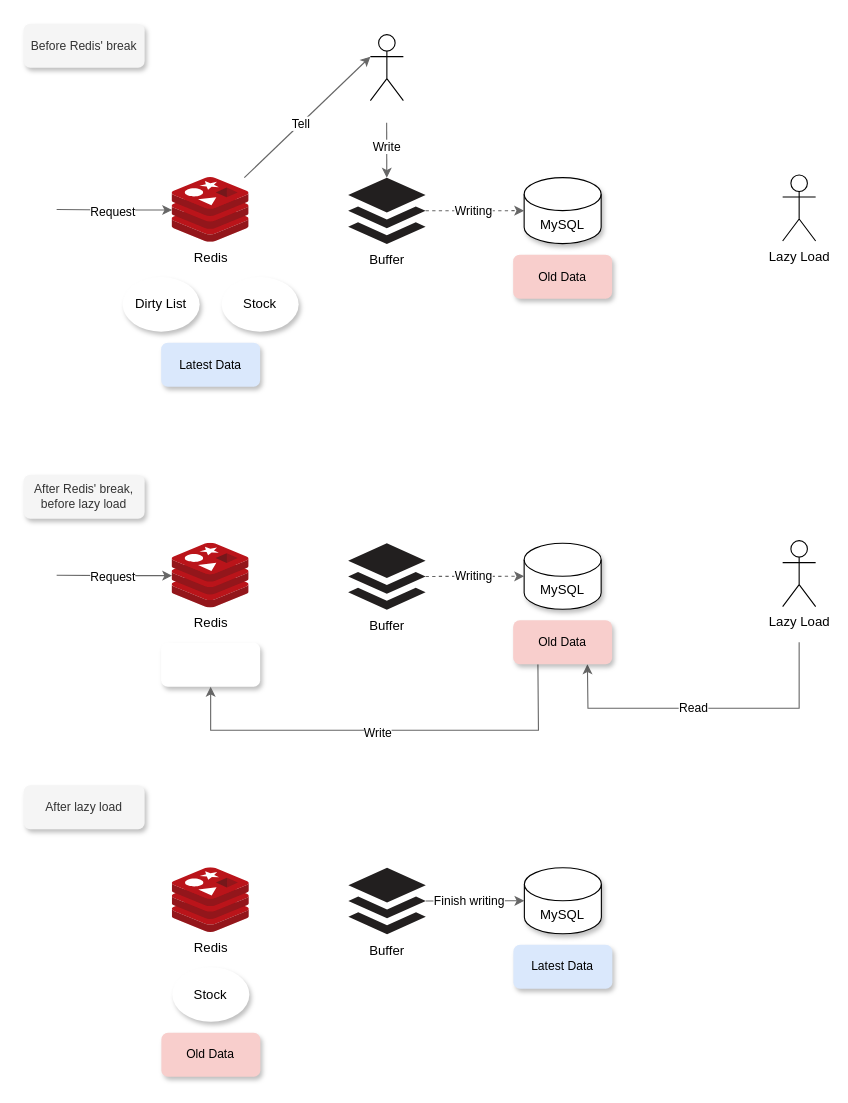
Some shapes in this 848 by 1103 pixel diagram are drawn without their labels. The centre of each missing label's shape, as x and y in pixels:
"No Data" goes at [211,666].
"Worker" goes at [386,67].
